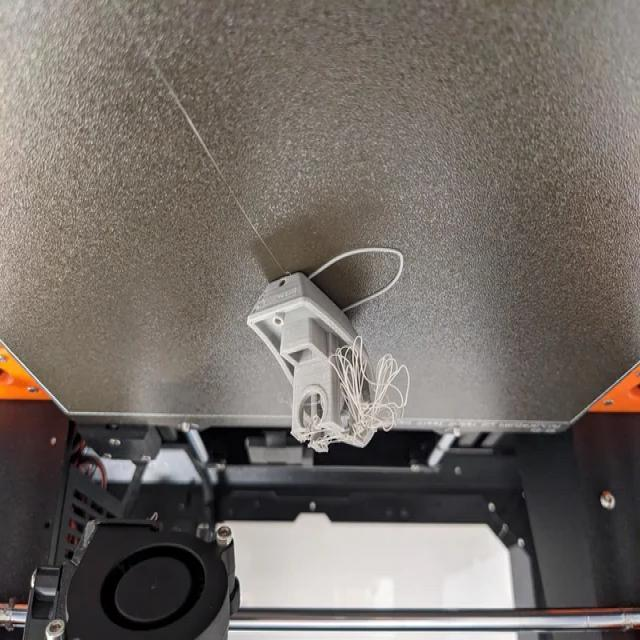Spaghetti: (337, 340, 410, 433)
